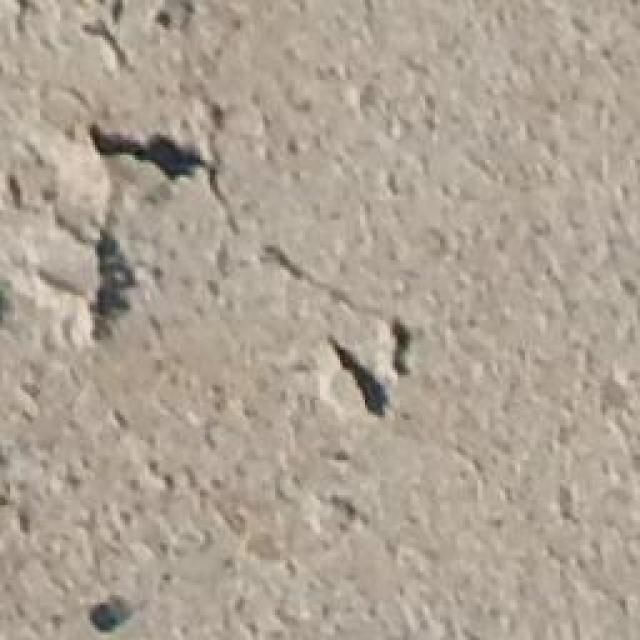concrete-crack: (85, 129, 414, 428), (79, 216, 148, 348), (88, 600, 128, 638)
